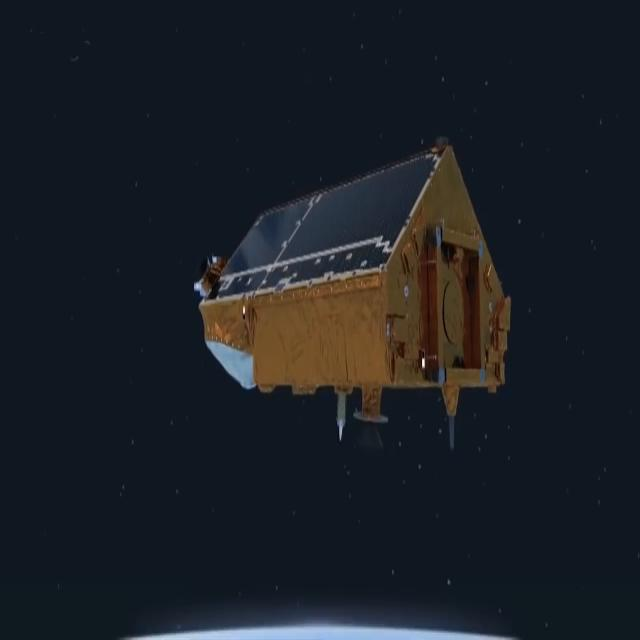satellite: (186, 137, 518, 443)
